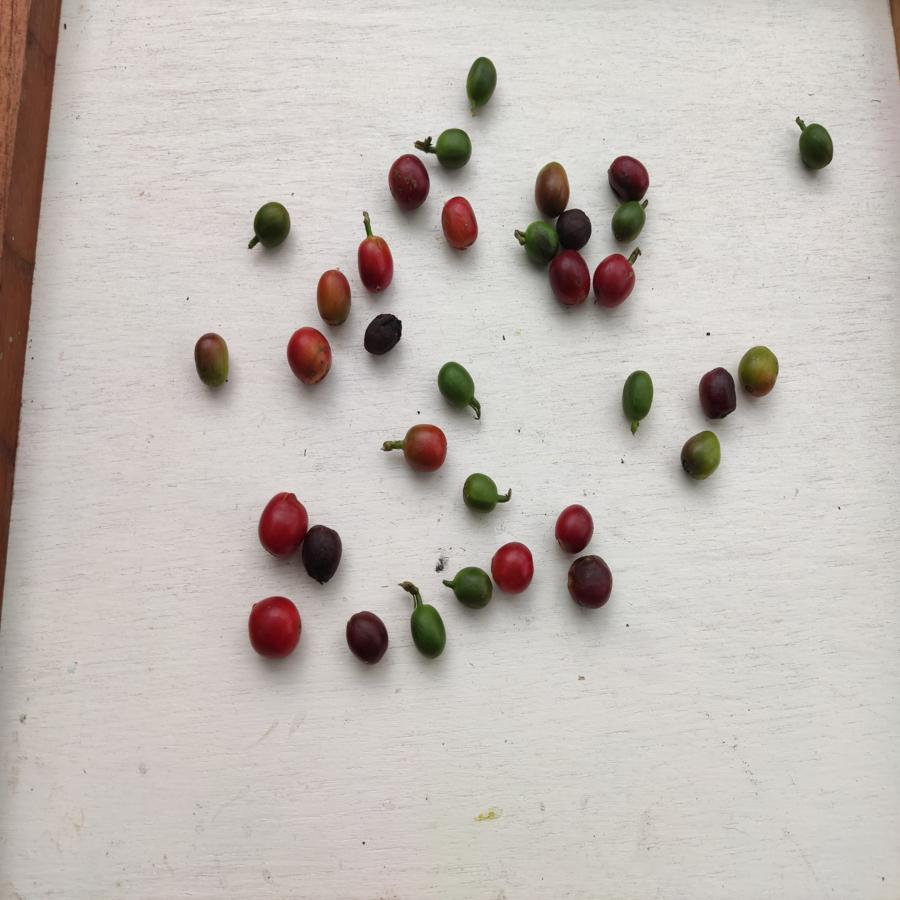Inmaduro: (680, 428, 726, 483), (796, 121, 841, 172), (251, 198, 293, 249), (438, 358, 477, 411), (410, 605, 447, 659), (432, 127, 472, 173), (622, 366, 654, 423), (449, 568, 493, 609), (459, 472, 500, 513), (608, 198, 648, 240), (464, 54, 498, 103), (521, 219, 556, 263)
Maduro: (247, 596, 302, 658), (256, 490, 305, 559), (284, 325, 332, 384), (402, 423, 449, 475), (491, 541, 535, 594), (553, 504, 596, 556), (357, 236, 395, 293), (443, 196, 480, 251)
Pinton: (532, 158, 573, 214), (738, 344, 779, 397), (317, 269, 353, 328), (193, 333, 231, 387)
Sobremaduro: (299, 525, 345, 583), (388, 153, 433, 212), (566, 555, 613, 610), (549, 249, 591, 308), (344, 611, 389, 666), (697, 363, 738, 423), (362, 312, 405, 357), (607, 154, 650, 199), (555, 210, 593, 247)
